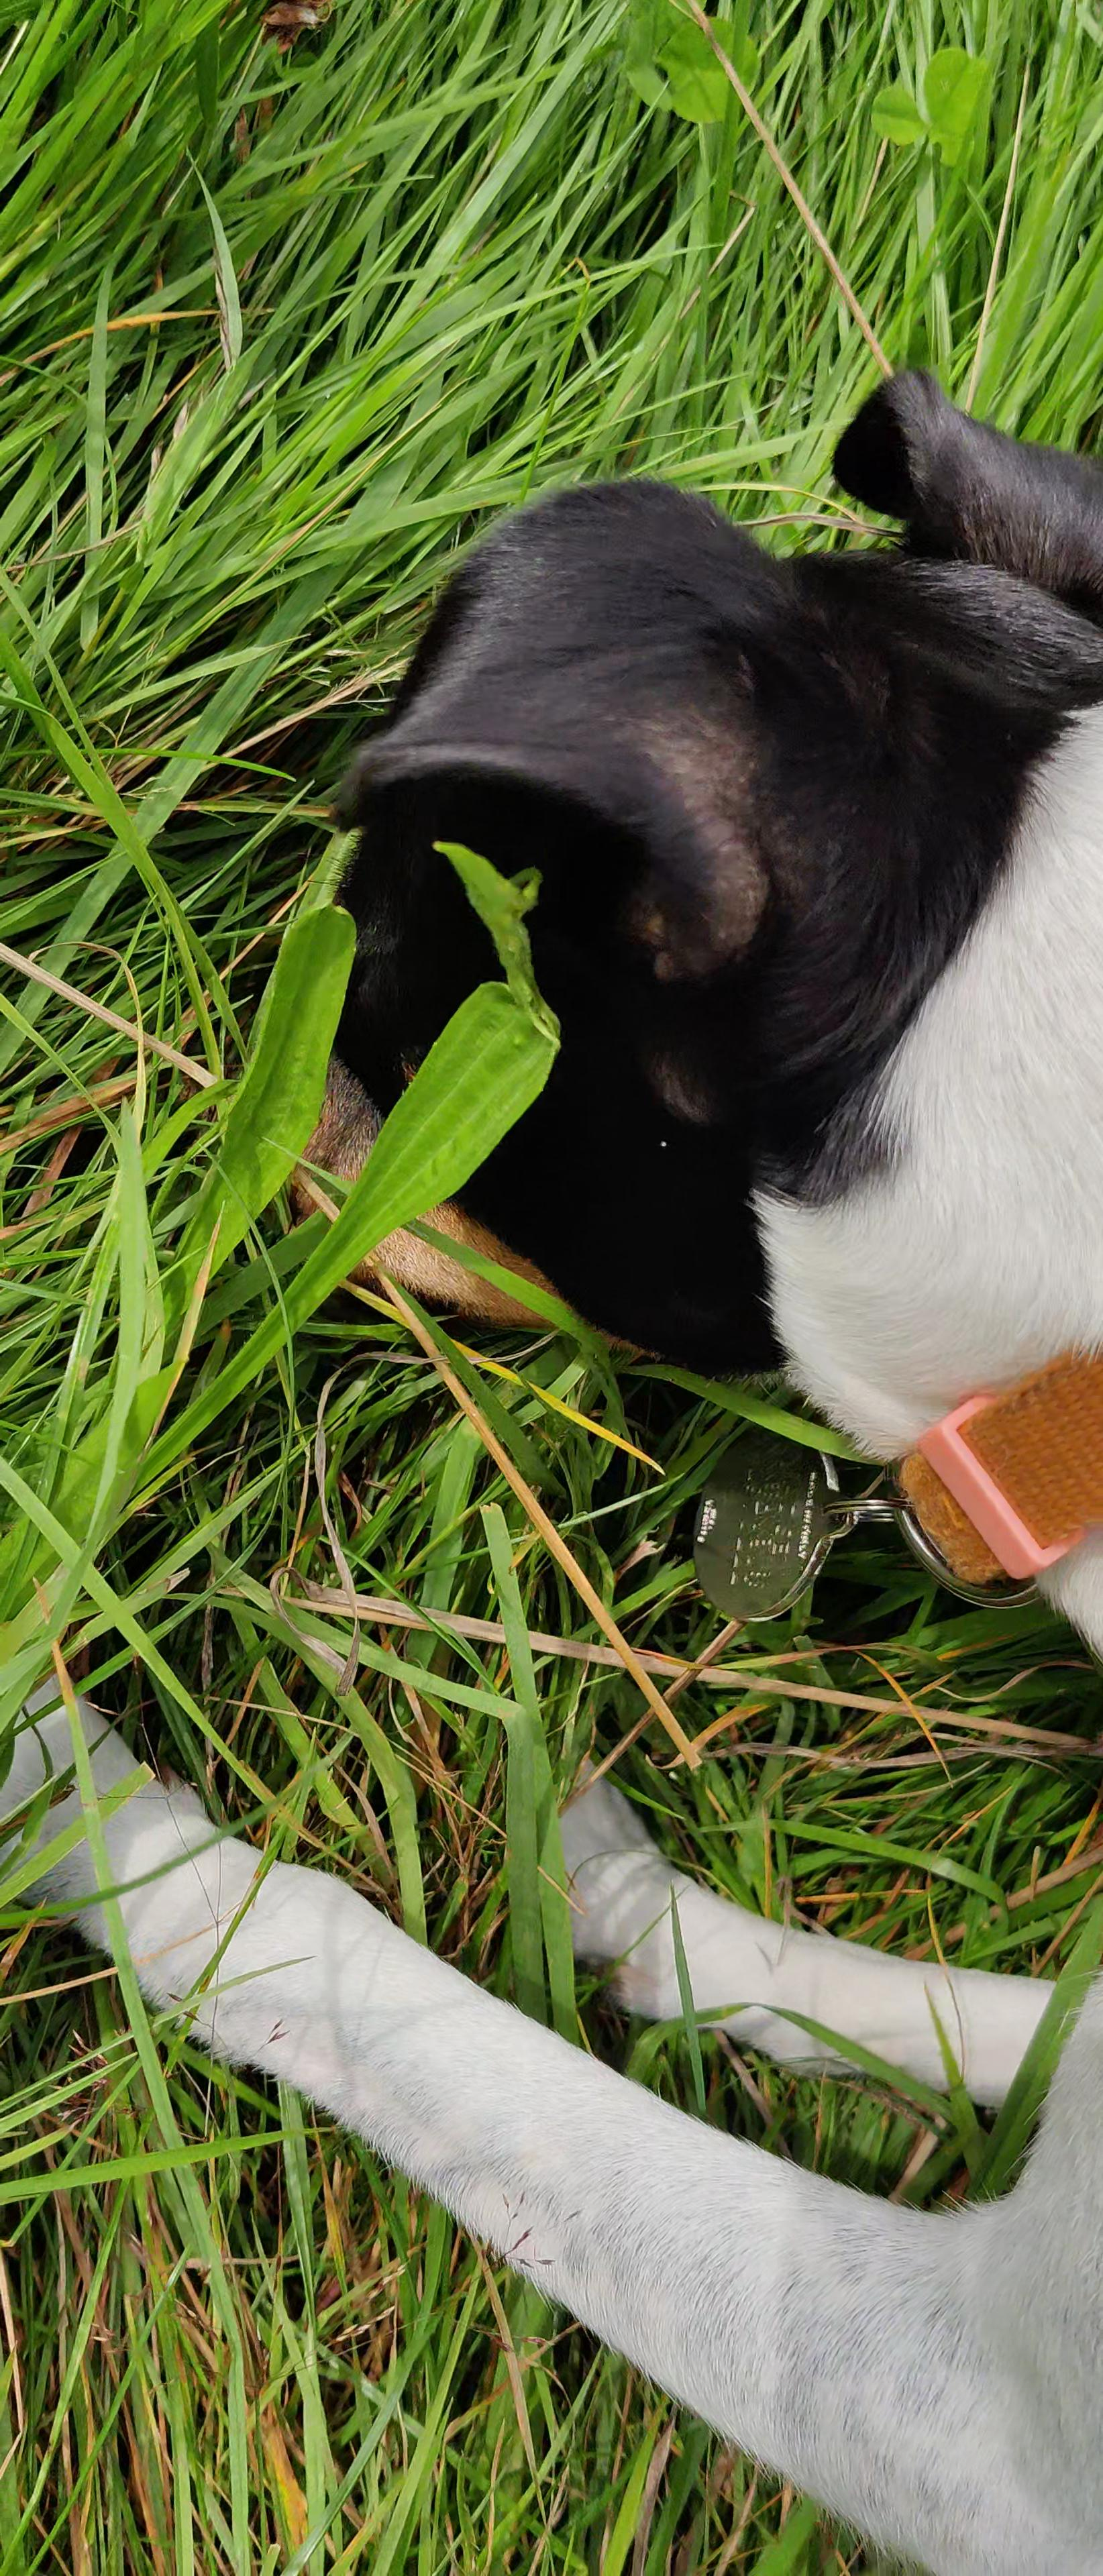Dog: (0, 350, 1103, 2576)
